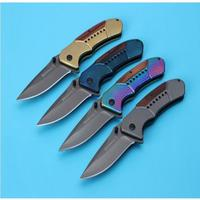knife: (12, 12, 185, 181)
